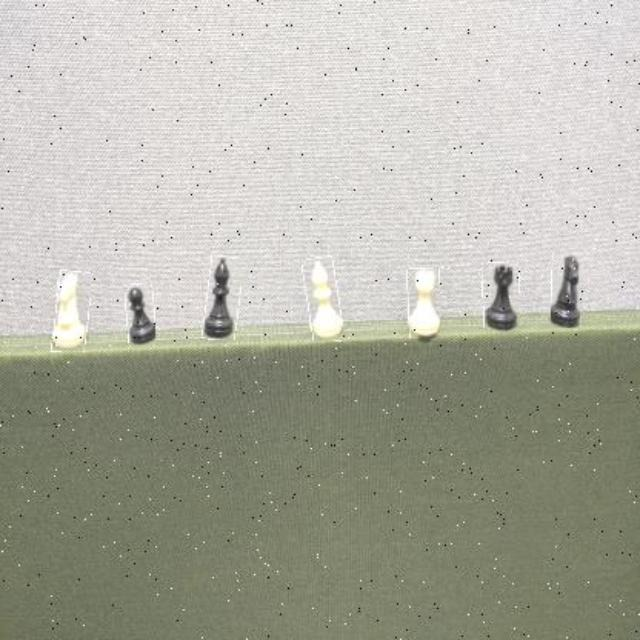black-bishop: (204, 257, 240, 341)
black-knight: (552, 254, 584, 330)
black-pawn: (126, 284, 156, 350)
black-rook: (483, 262, 521, 334)
white-bishop: (306, 256, 342, 342)
white-knight: (54, 270, 90, 353)
white-rook: (408, 269, 440, 341)
